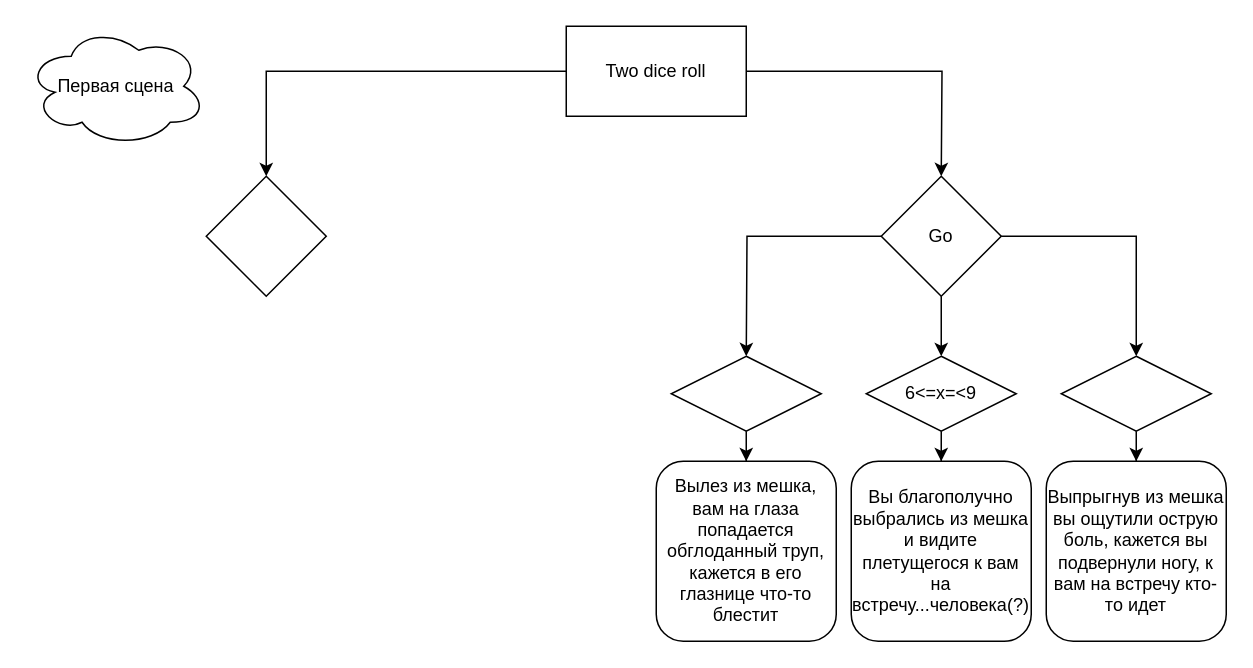
This 1253x668 diagram has some shape labels left out. Each missing label, with the box of its shape:
Stay: (205, 175, 326, 296)
x<6: (1060, 355, 1211, 431)
x>9: (670, 355, 821, 431)
